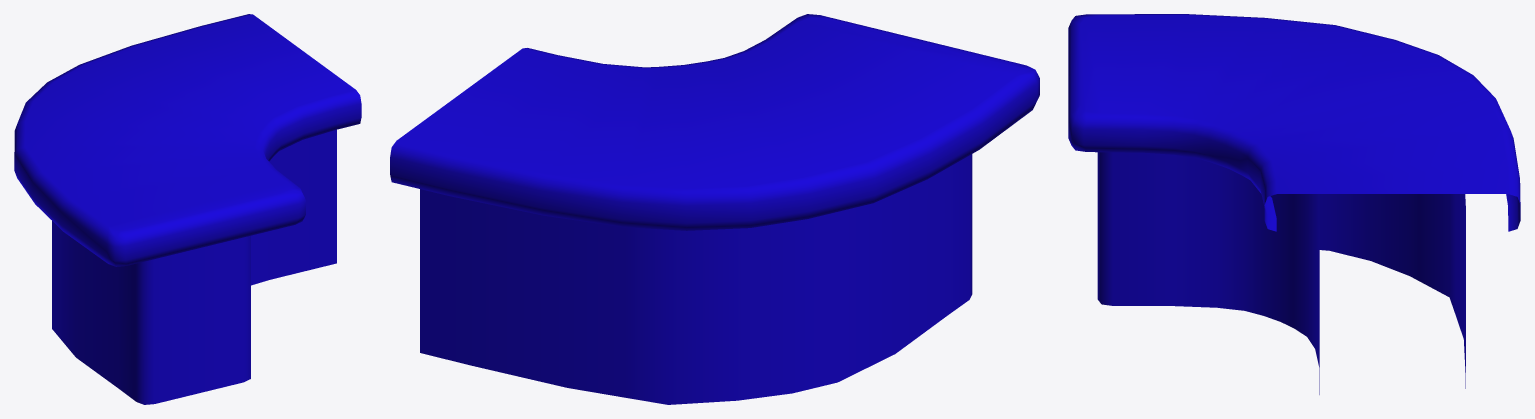
Rendered from SM_Bar_corner.fbx.
3 views of the same model, side by side, from view 1: azimuth 30°, elevation 25°; view 2: azimuth 150°, elevation 25°; view 3: azimuth 270°, elevation 25° (orthographic). The views are drawn at different scales.
Visible parts, largest first — view 1: SM_Bar_corner; view 2: SM_Bar_corner; view 3: SM_Bar_corner.
Part boxes in pixels (x1,y1,x2,y2): SM_Bar_corner: [14, 14, 361, 404]; SM_Bar_corner: [390, 14, 1039, 404]; SM_Bar_corner: [1068, 14, 1520, 394].
Bounding box in the file's own units: 187 × 100 × 194.
